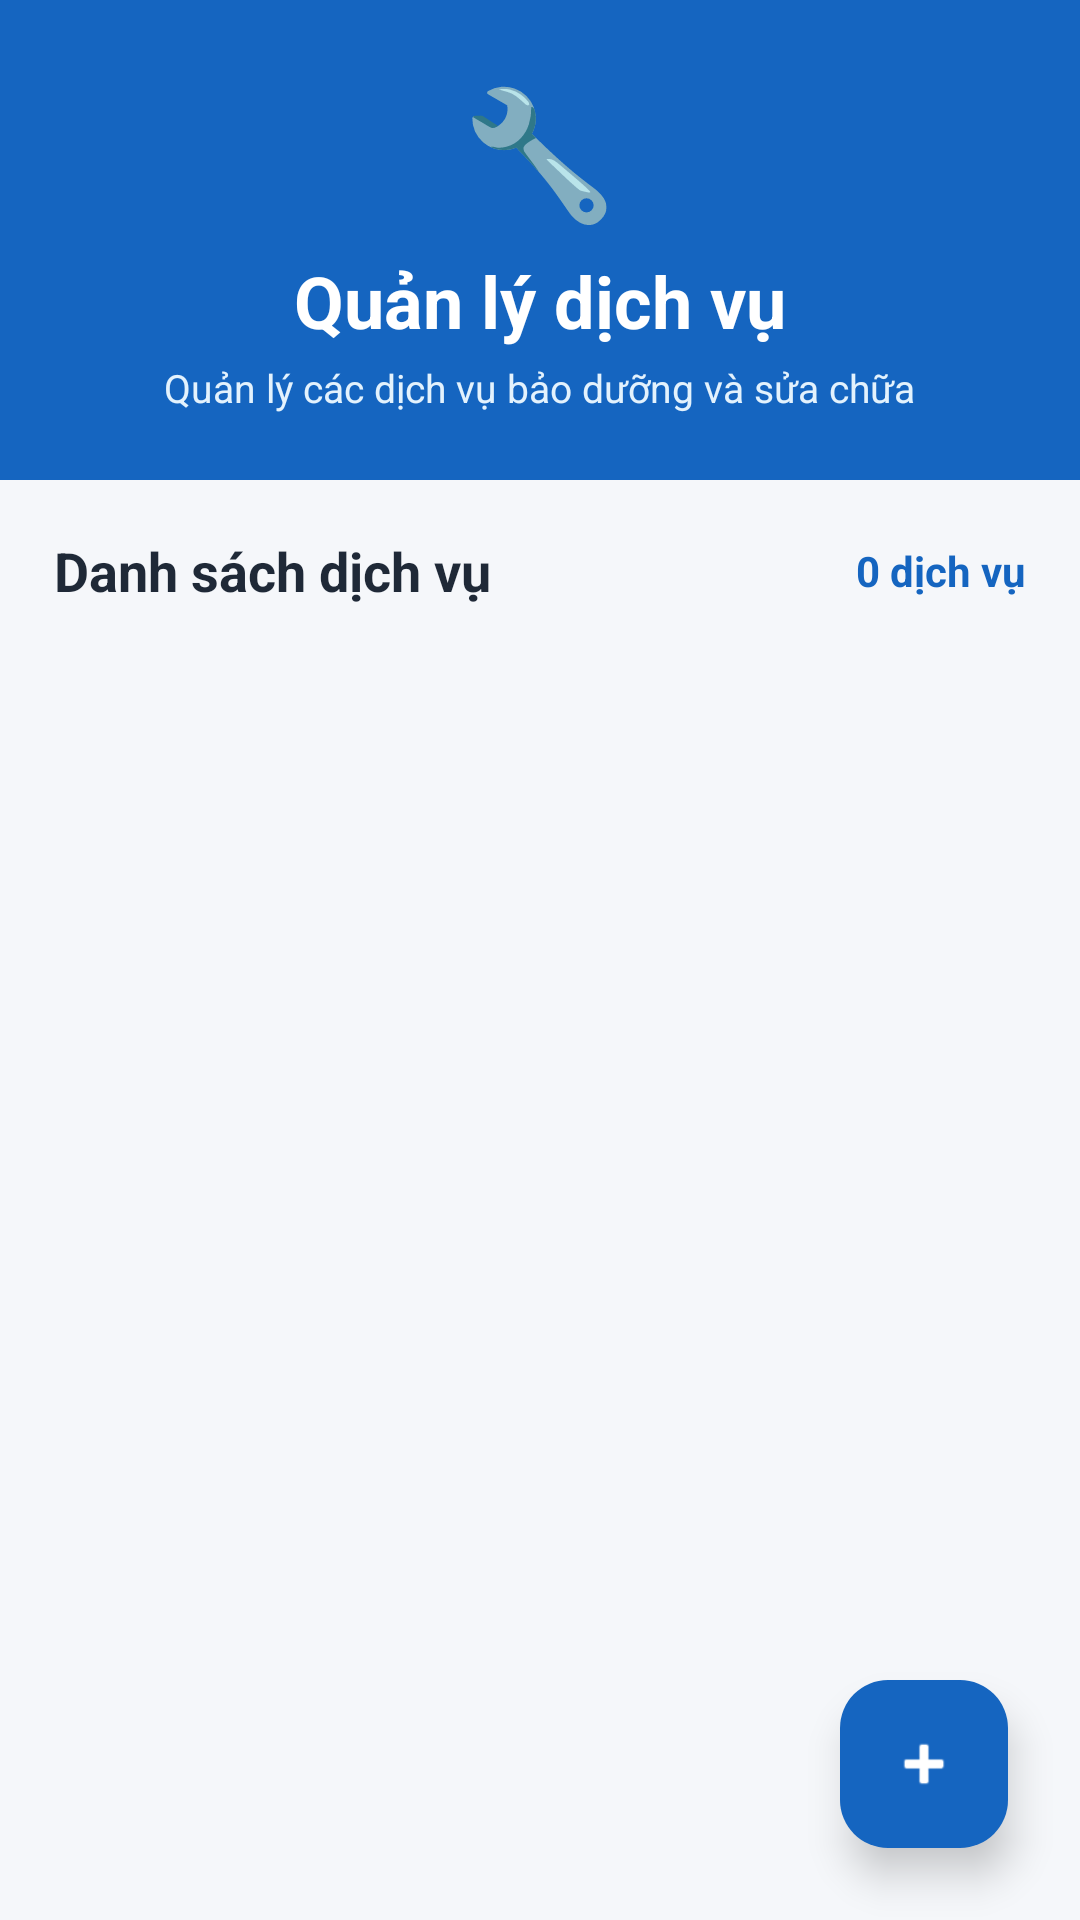

Named icons in this screenshot (1080x1920) and their centers, point (x, y):
Thêm dịch vụ: point (924, 1764)
